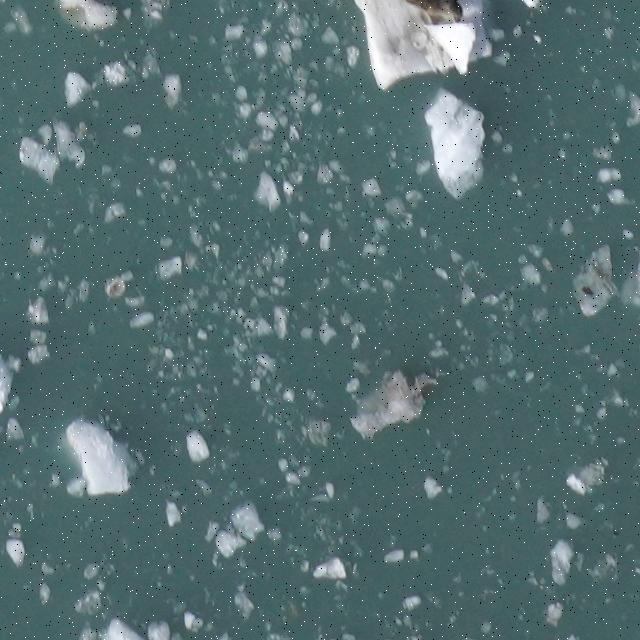seal: (387, 0, 469, 27)
